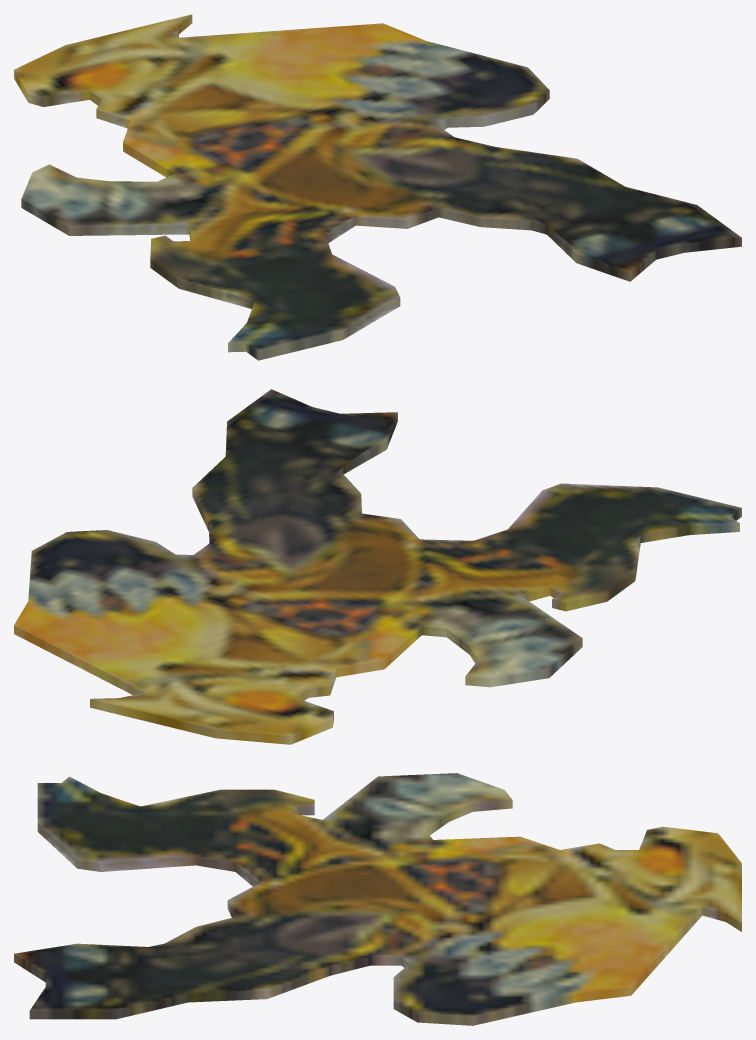
File: RongLua.glb
3 renders of one model, top to bottom at view 1: azimuth 30°, elevation 25°; view 2: azimuth 150°, elevation 25°; view 3: azimuth 270°, elevation 25°, orthographic. The views are drawn at different scales.
Visible parts, largest first — view 1: RongLua; view 2: RongLua; view 3: RongLua.
Boxes of the visible parts, x1,y1,x2,y2 form: RongLua: [14, 14, 741, 360]; RongLua: [14, 389, 741, 744]; RongLua: [14, 773, 741, 1025].
Size of the model in its own units: 0.3026 by 0.005 by 0.3813.
Materials: 1 (1 with a texture image).
